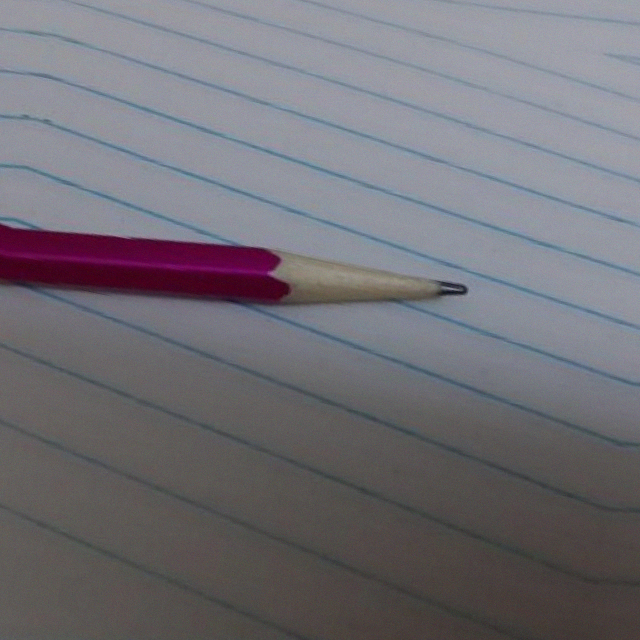pencil: (247, 228, 470, 332)
